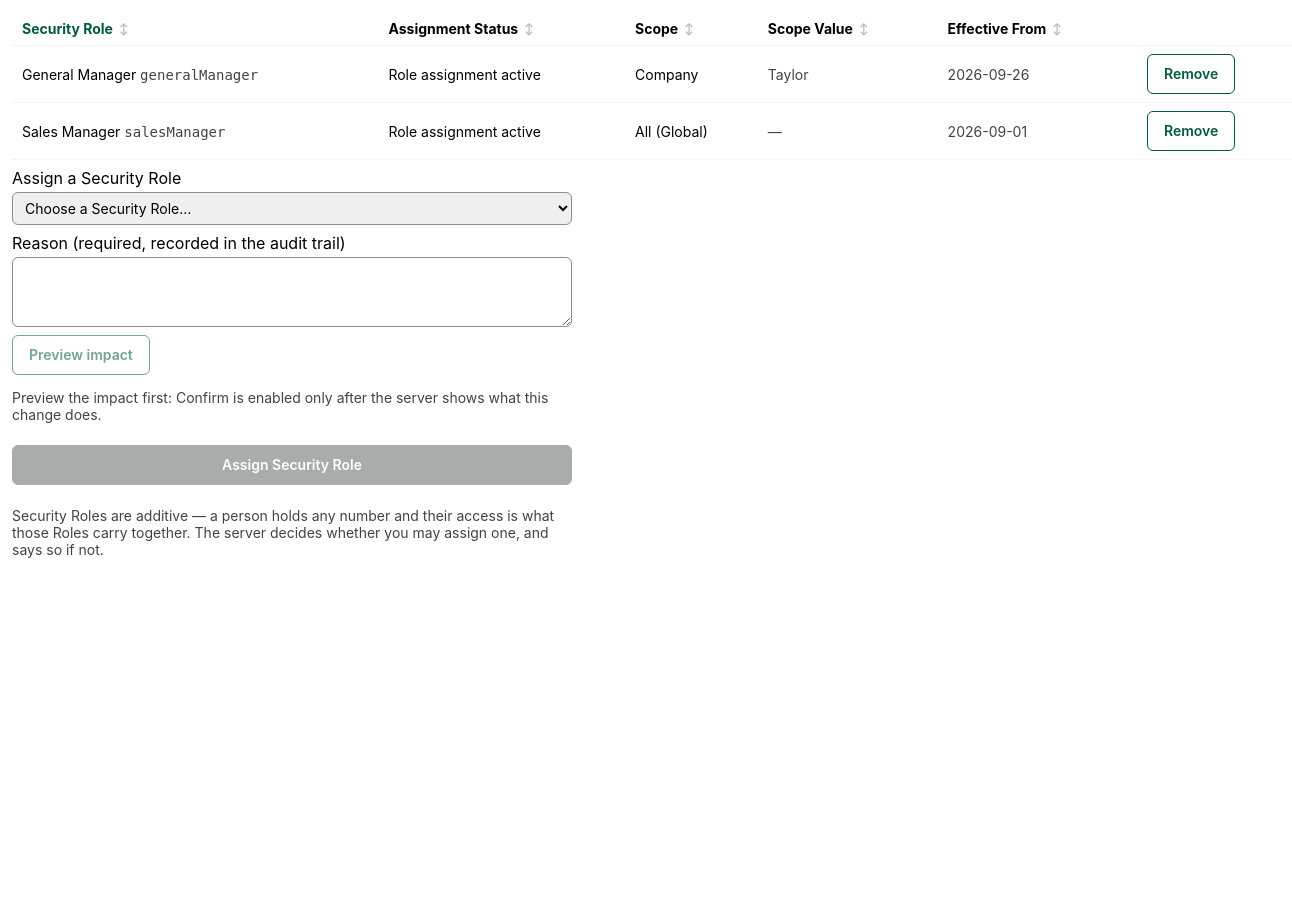
Test: Employee > Security Roles: assignment scope from the server › offers only the scopes the server says this Role may take; a refused scope is shown disabled with its code
This screenshot has width=1292, height=912.
Select "Administrator" in the dropdown named "Security Role to assign": (292, 208) [12, 192, 572, 225]
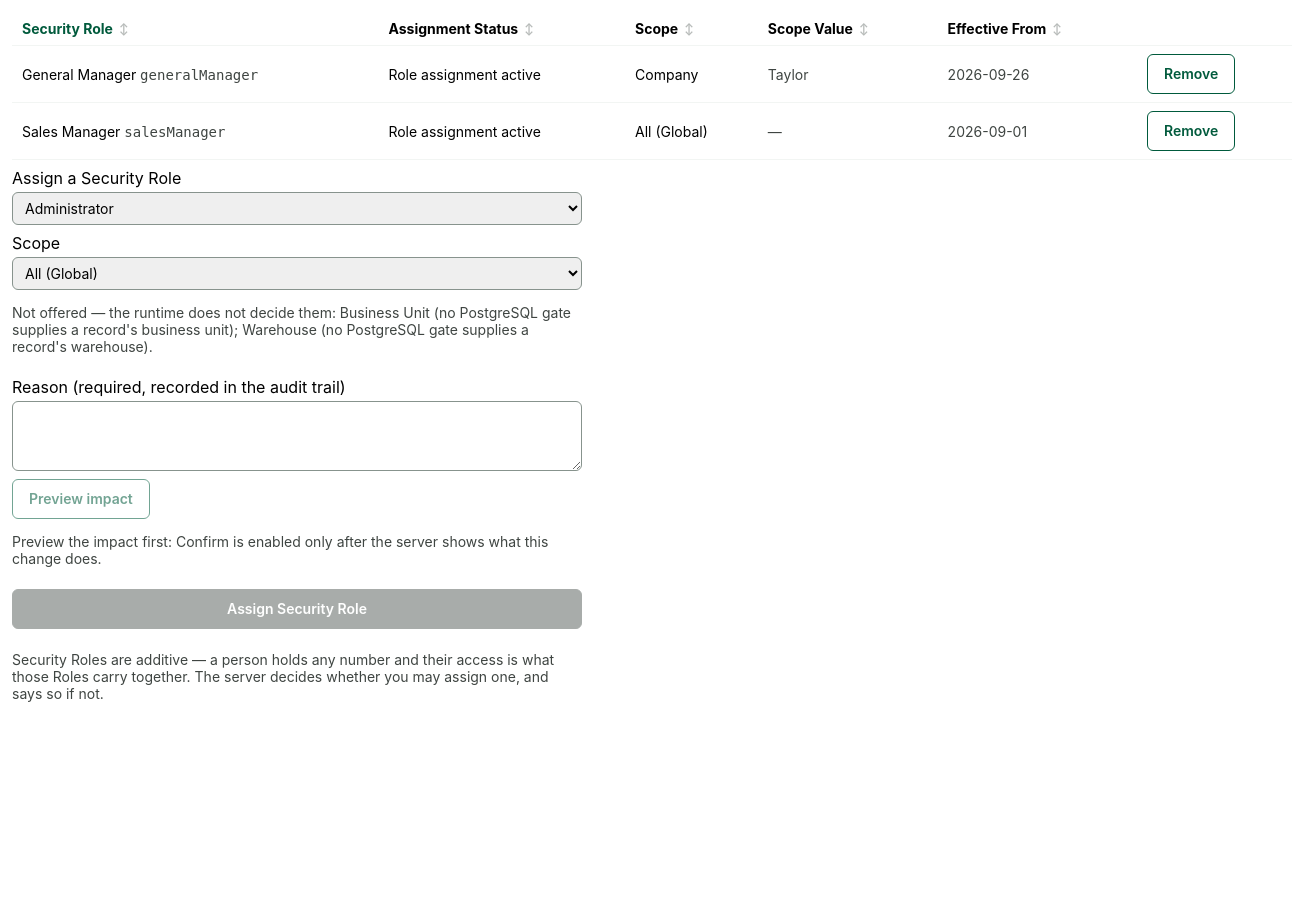
Expected: the element that starts with "Scope" is shown, [12, 233, 582, 369]
Expected: the text "Business Unit (no PostgreSQL gate supplies a record's business unit)" is shown, [12, 304, 571, 355]
Expected: the text "Warehouse" is shown, [12, 304, 571, 355]
